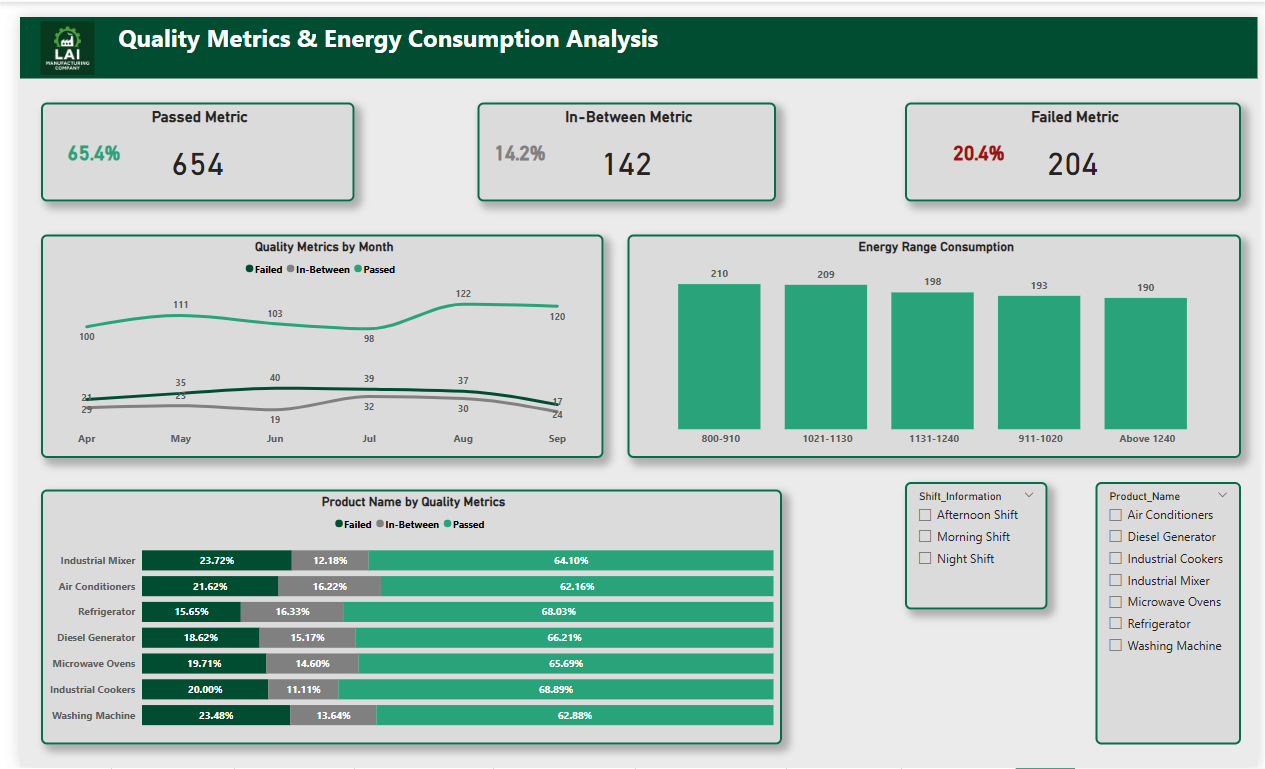

What the dashboard file says about the page in this screenshot:
{"tool":"powerbi","page":{"name":"Quality","canvas":[1650,1000],"ordinal":2},"visuals":[{"type":"shape","box":[0,0,1650,82],"z":0},{"type":"textbox","box":[126,0,1524,82],"z":1000},{"type":"slicer","fields":{"Values":["Product_Data.Product_Name"]},"box":[1434,620,194,350],"z":2000},{"type":"slicer","fields":{"Values":["Employee_Data.Shift_Information"]},"box":[1180,620,190,170],"z":3000},{"type":"card","title":"Passed Metric","fields":{"Values":["Measure_Table.Passed metrics"]},"box":[28,114,418,132],"z":4000},{"type":"card","title":"In-Between Metric","fields":{"Values":["Measure_Table.In Between"]},"box":[610,114,398,132],"z":5000},{"type":"card","title":"Failed Metric","fields":{"Values":["Measure_Table.Failed"]},"box":[1180,114,448,132],"z":6000},{"type":"card","fields":{"Values":["Measure_Table.%passedmetric"]},"box":[28,136,140,86],"z":7000},{"type":"card","fields":{"Values":["Measure_Table.%failedmetric"]},"box":[1220,136,116,86],"z":8000},{"type":"card","fields":{"Values":["Measure_Table.%inbetweenmetric"]},"box":[610,136,112,86],"z":9000},{"type":"lineChart","title":"Quality Metrics by Month ","fields":{"Category":["Date Table.Month Name"],"Y":["Measure_Table.Total"],"Series":["Operations_Data.Quality_Metrics"]},"box":[28,290,750,298],"z":10000},{"type":"hundredPercentStackedBarChart","title":"Product Name by Quality Metrics","fields":{"Series":["Operations_Data.Quality_Metrics"],"Category":["Product_Data.Product_Name"],"Y":["Measure_Table.Total"]},"box":[28,630,988,340],"z":11000},{"type":"columnChart","title":"Energy Range Consumption ","fields":{"Category":["Operations_Data.Energy Consumption Range"],"Y":["Measure_Table.Total"]},"box":[810,290,818,298],"z":12000},{"type":"image","box":[0,0,126,82],"z":13001}]}

Visuals, with their boxes in screenshot pixels (x1, y1, x2, y2), scaled from the page's 1650x1000 canvas onto the 1265x769 screenshot:
shape: 0,0,1264,63
textbox: 97,0,1264,63
slicer - Product_Data.Product_Name: 1099,477,1248,746
slicer - Employee_Data.Shift_Information: 905,477,1050,608
"Passed Metric" card: 21,88,342,189
"In-Between Metric" card: 468,88,773,189
"Failed Metric" card: 905,88,1248,189
card - Measure_Table.%passedmetric: 21,105,129,171
card - Measure_Table.%failedmetric: 935,105,1024,171
card - Measure_Table.%inbetweenmetric: 468,105,554,171
"Quality Metrics by Month " lineChart: 21,223,596,452
"Product Name by Quality Metrics" hundredPercentStackedBarChart: 21,484,779,746
"Energy Range Consumption " columnChart: 621,223,1248,452
image: 0,0,97,63
